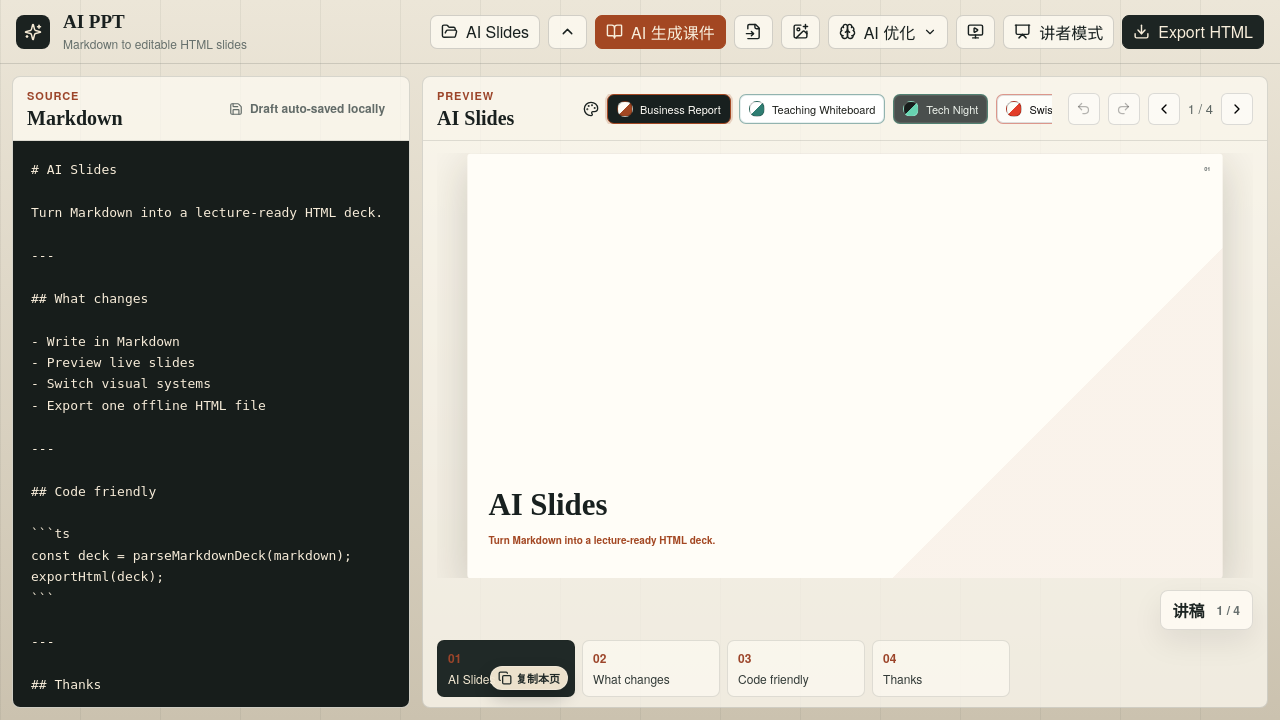
App image insertion controls › shows a friendly Chinese message when copy optimization fails
The width and height of the screenshot is (1280, 720).
Click the button with test id "ai-menu-button" at (888, 32), box [828,14,948,48]
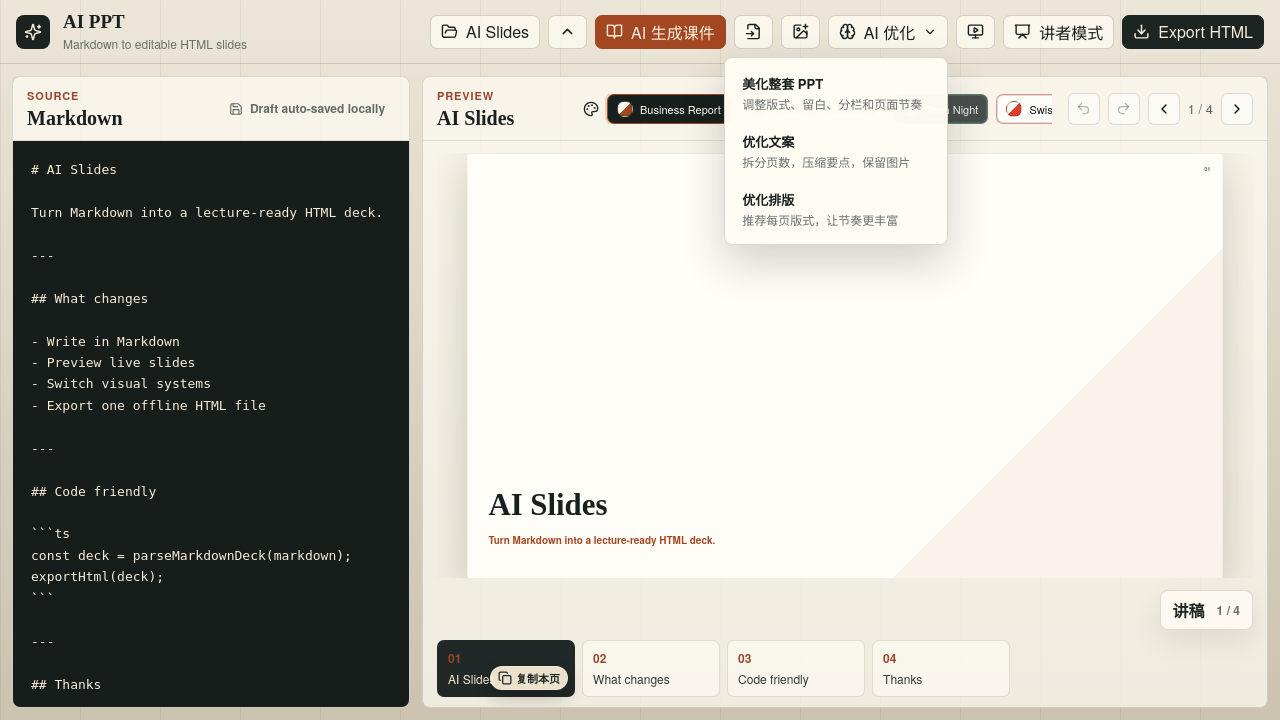
Click the menu item with test id "ai-optimize-copy" at (836, 151), box [731,122,941,180]
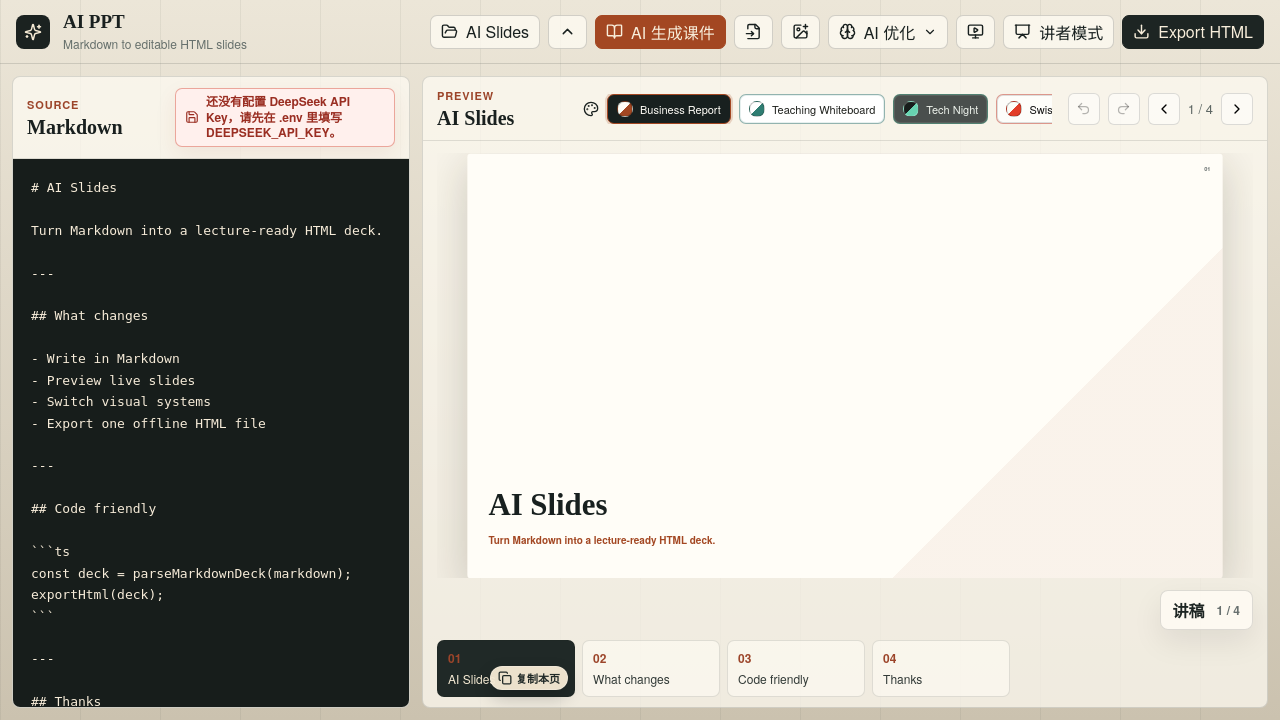
expect the element with class "status" shows "还没有配置 DeepSeek API Key": met, box [206,92,350,141]
